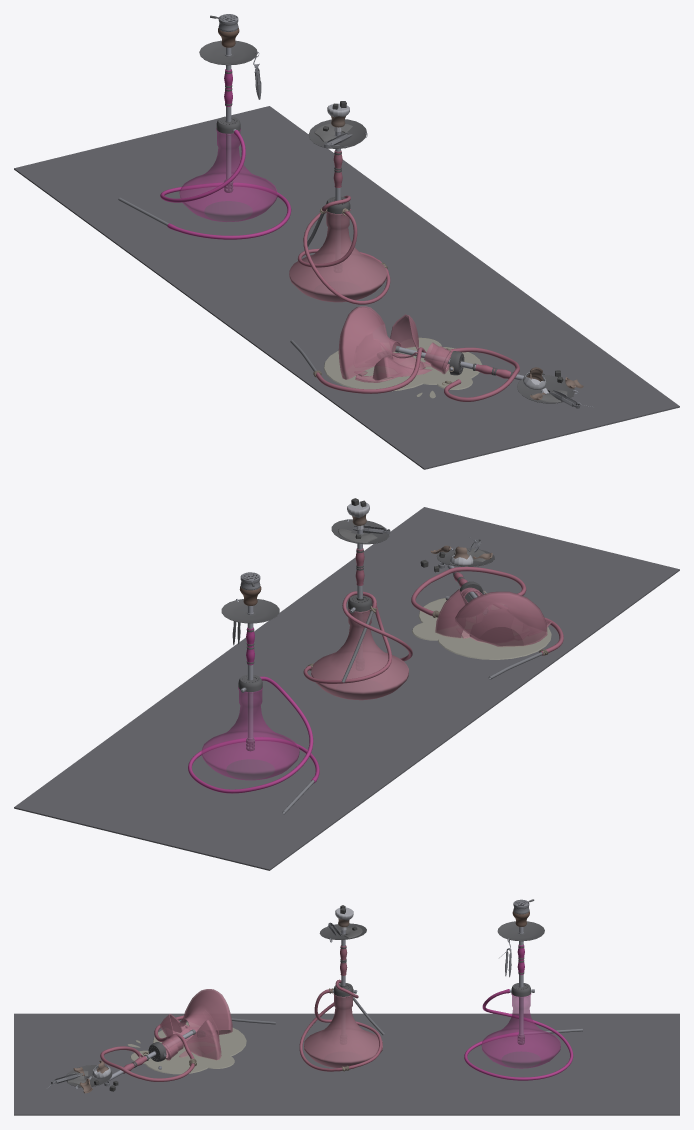
Rendered from kalikF.fbx.
3 views of the same model, one above another, from view 1: azimuth 30°, elevation 25°; view 2: azimuth 150°, elevation 25°; view 3: azimuth 270°, elevation 25° (orthographic). The views are drawn at different scales.
Parts seen in each view (by area): view 1: pCube1, polySurface282, polySurface189, polySurface227, pCylinder152, polySurface198, pCylinder138, polySurface291, polySurface208, polySurface236, polySurface266; view 2: pCube1, polySurface282, polySurface189, polySurface227, pCylinder152, polySurface198, pCylinder138, polySurface208, polySurface291, polySurface236, polySurface266; view 3: pCube1, polySurface282, polySurface189, polySurface227, pCylinder152, polySurface198, pCylinder138, polySurface208, polySurface291, polySurface266, polySurface236, polySurface275 (+2 smaller).
Boxes of the visible parts, x1,y1,x2,y2 form: pCube1: [14, 106, 679, 469]; polySurface282: [338, 306, 452, 382]; polySurface189: [179, 128, 277, 221]; polySurface227: [289, 209, 386, 302]; pCylinder152: [323, 337, 481, 398]; polySurface198: [160, 69, 291, 239]; pCylinder138: [297, 150, 390, 304]; polySurface291: [316, 347, 519, 401]; polySurface208: [199, 40, 257, 133]; polySurface236: [308, 119, 366, 213]; polySurface266: [449, 351, 575, 403]; pCube1: [14, 507, 679, 870]; polySurface282: [435, 587, 551, 646]; polySurface189: [201, 687, 299, 780]; polySurface227: [311, 607, 408, 700]; pCylinder152: [412, 593, 551, 659]; polySurface198: [188, 627, 319, 793]; pCylinder138: [303, 548, 412, 683]; polySurface208: [221, 599, 279, 692]; polySurface291: [411, 566, 563, 655]; polySurface236: [331, 519, 389, 611]; polySurface266: [436, 548, 494, 603]; pCube1: [14, 1013, 679, 1115]; polySurface282: [159, 989, 232, 1060]; polySurface189: [481, 993, 560, 1068]; polySurface227: [304, 993, 382, 1068]; pCylinder152: [127, 1022, 246, 1074]; polySurface198: [464, 944, 573, 1080]; pCylinder138: [299, 945, 382, 1071]; polySurface208: [497, 921, 544, 996]; polySurface291: [100, 1015, 194, 1081]; polySurface266: [66, 1042, 166, 1087]; polySurface236: [319, 923, 366, 996]; polySurface275: [51, 1018, 275, 1086].
Bounding box in the file's own units: 14.81 × 10.84 × 41.17.
